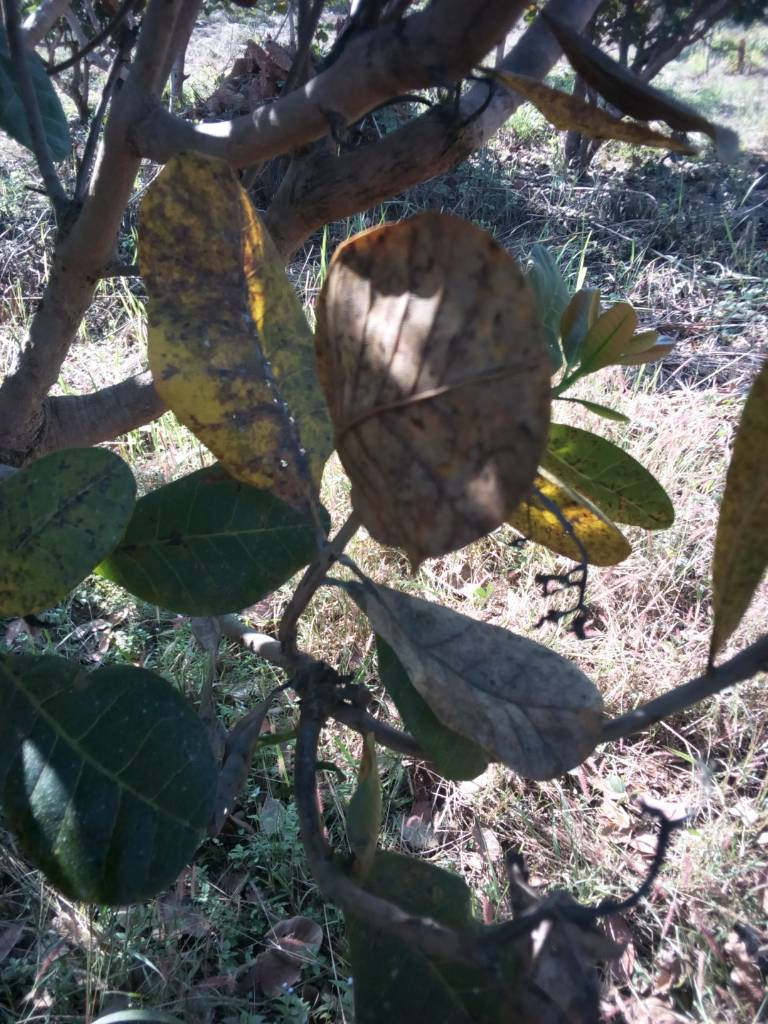Anthracnose: (133, 150, 338, 510), (2, 450, 138, 603), (555, 424, 679, 571)
